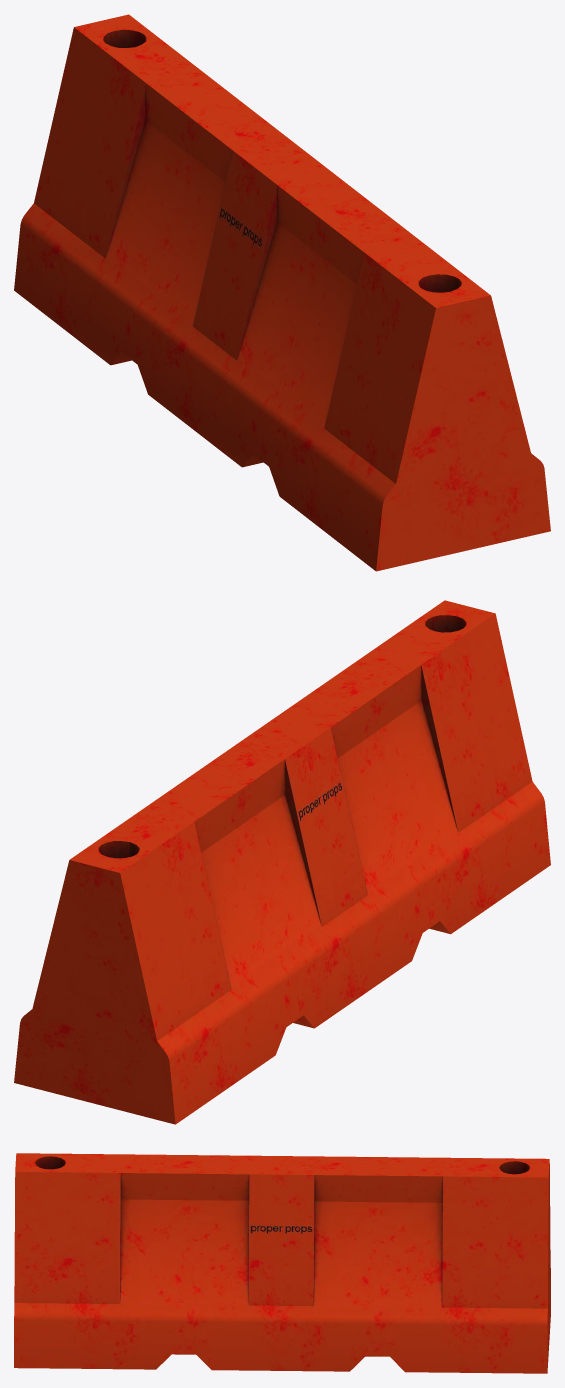
The model's file is water-barrier.glb.
The picture shows the model from 3 angles, top to bottom: view 1: azimuth 30°, elevation 25°; view 2: azimuth 150°, elevation 25°; view 3: azimuth 270°, elevation 25°; orthographic projection. The views are drawn at different scales.
Visible parts, largest first — view 1: t3pc; view 2: t3pc; view 3: t3pc.
Part boxes in pixels (box(x1,y1,x2,y2)): t3pc: box(14, 14, 550, 571); t3pc: box(14, 600, 550, 1124); t3pc: box(14, 1153, 550, 1373).
Bounding box in the file's own units: 1.15 × 1.45 × 4.01.
1 material, 1 textured.
